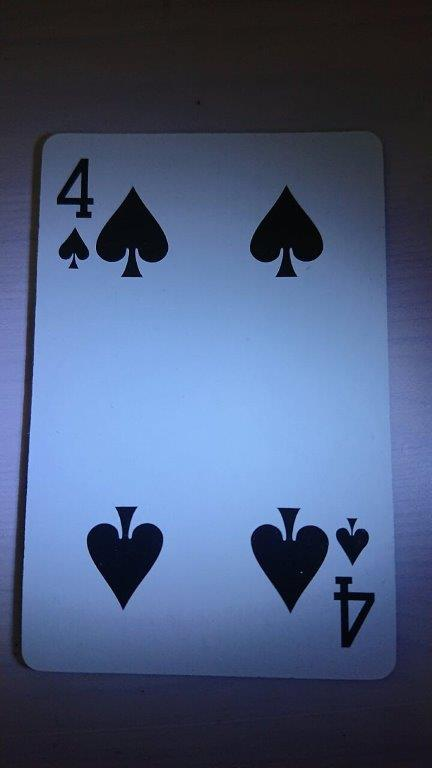4S: (18, 128, 399, 682)
